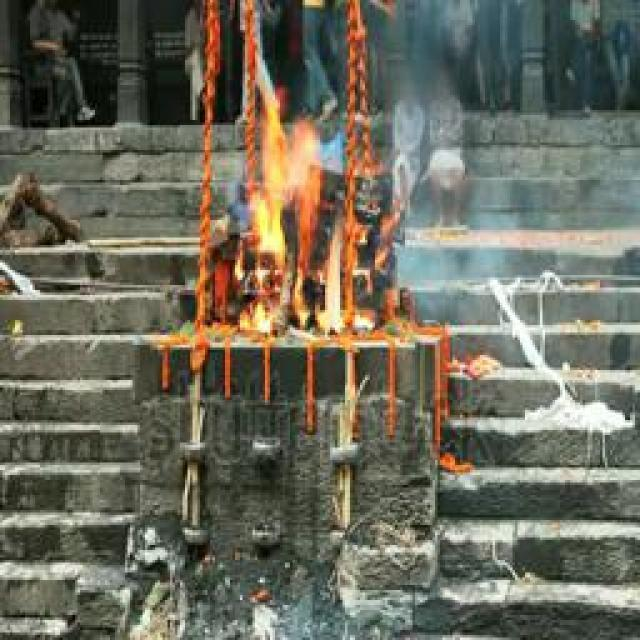Fire: (240, 98, 356, 344)
